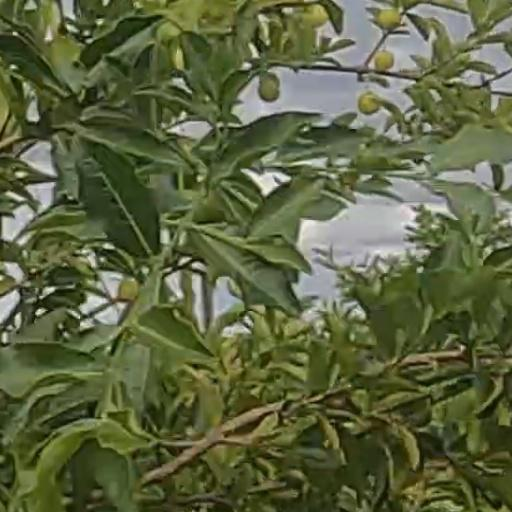acerola_verde: (258, 75, 279, 100), (359, 91, 378, 114)
